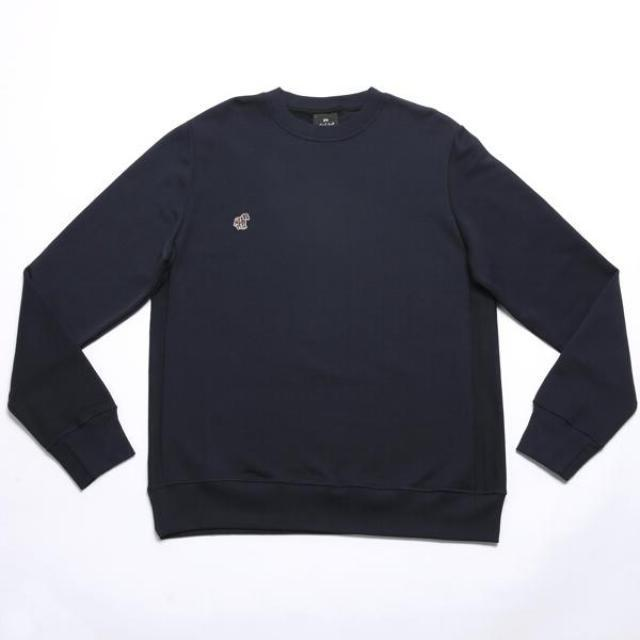sweater: (6, 87, 636, 549)
